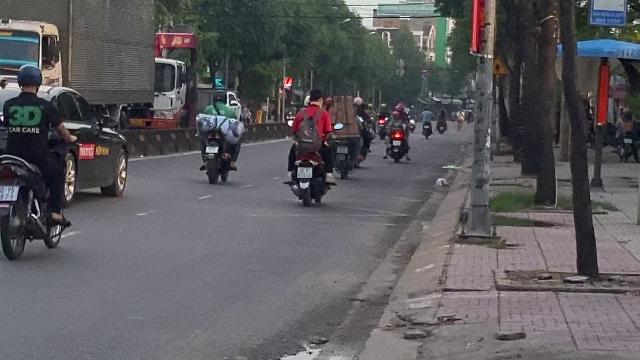helmet: (15, 64, 43, 94)
licenseplate: (0, 184, 18, 200), (298, 167, 312, 177)
motorcyclist: (0, 62, 76, 259), (283, 86, 335, 206)
nohelmet: (306, 89, 322, 107)
